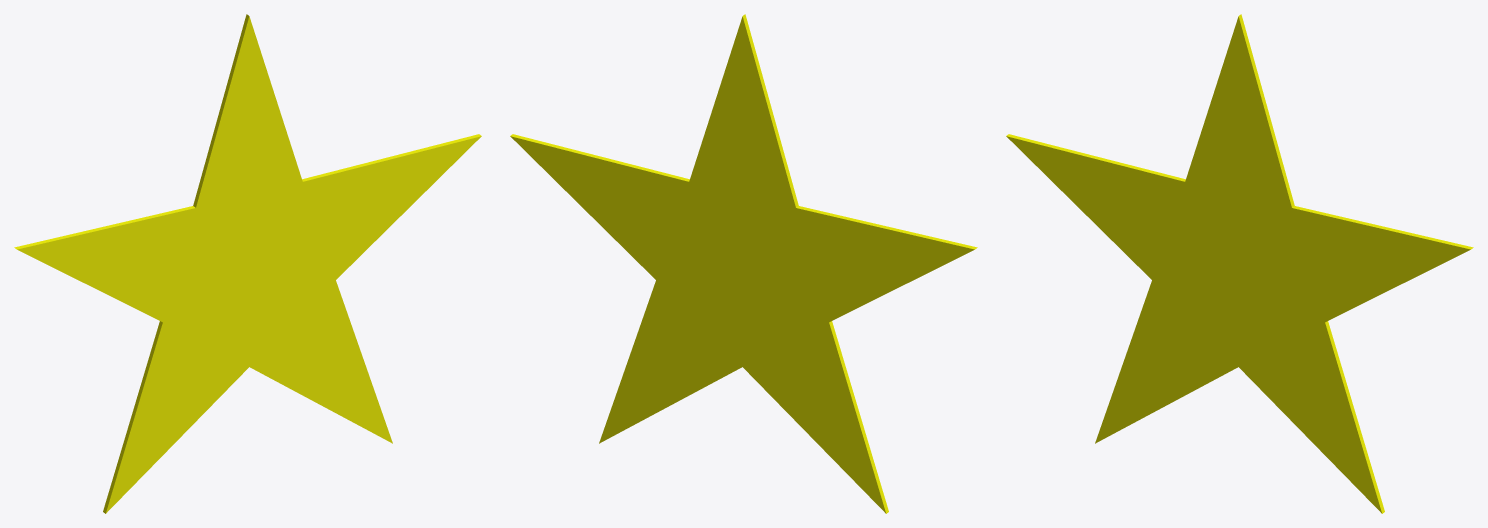
File: Bentuk_Bintang.fbx
The picture shows the model from 3 angles, left to right: view 1: azimuth 30°, elevation 25°; view 2: azimuth 150°, elevation 25°; view 3: azimuth 330°, elevation 25°; orthographic projection.
Visible parts, largest first — view 1: Circle; view 2: Circle; view 3: Circle.
Boxes of the visible parts, left/top/right/bottom form: Circle: left=14, top=14, right=481, bottom=513; Circle: left=510, top=14, right=977, bottom=513; Circle: left=1006, top=14, right=1473, bottom=513.
Bounding box in the file's own units: 190 × 181 × 2.
